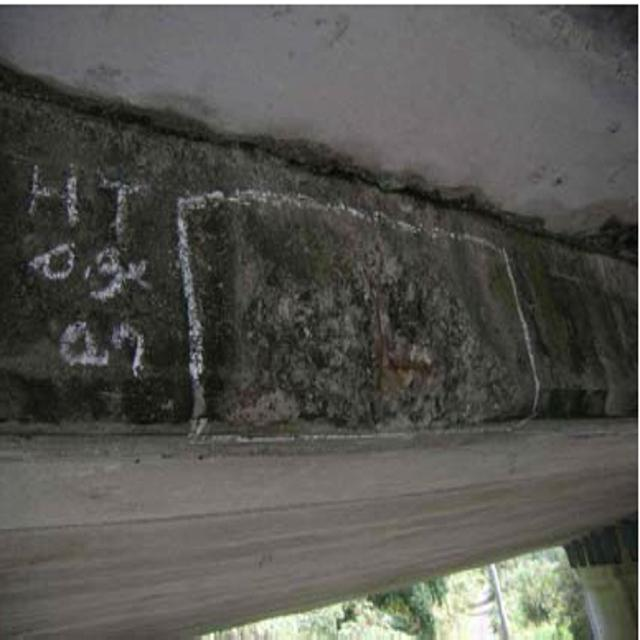spalling: (223, 237, 518, 434)
